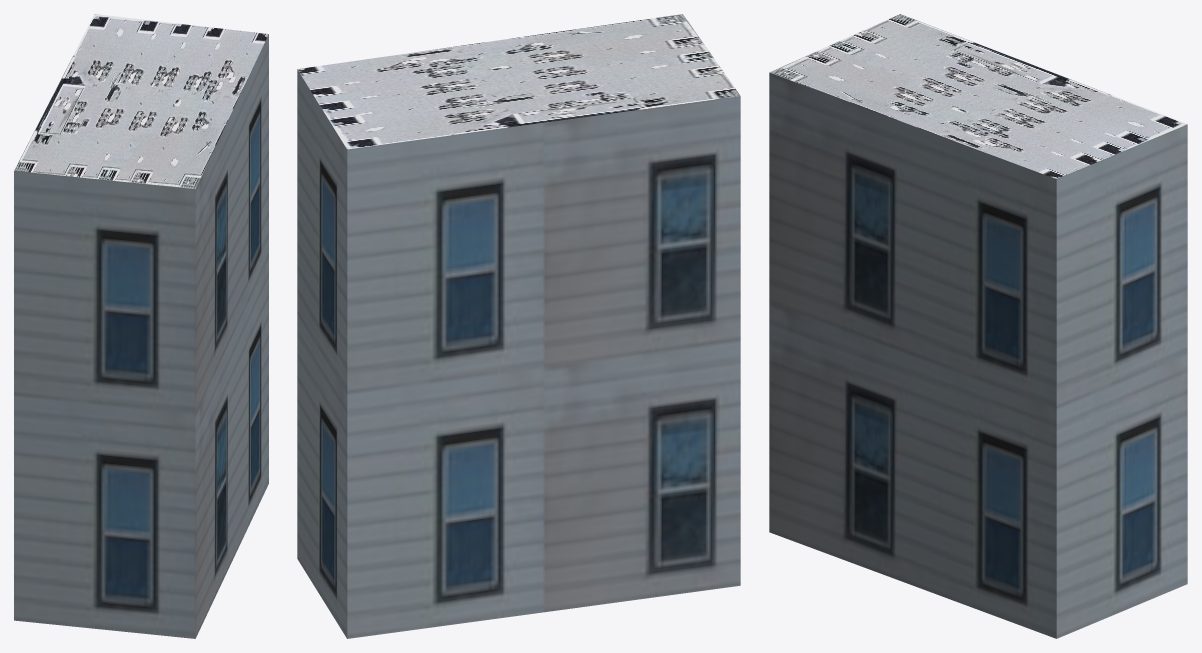
The model's file is ResTex__5183.fbx.
3 renders of one model, left to right at view 1: azimuth 30°, elevation 25°; view 2: azimuth 150°, elevation 25°; view 3: azimuth 270°, elevation 25°, orthographic. The views are drawn at different scales.
Visible parts, largest first — view 1: CityEngineMaterial_18_m, CityEngineMaterial_8_m; view 2: CityEngineMaterial_18_m, CityEngineMaterial_8_m; view 3: CityEngineMaterial_18_m, CityEngineMaterial_8_m.
Part boxes in pixels (x1=…): CityEngineMaterial_18_m: x1=14, y1=34, x2=268, y2=638; CityEngineMaterial_8_m: x1=14, y1=14, x2=268, y2=189; CityEngineMaterial_18_m: x1=297, y1=70, x2=740, y2=638; CityEngineMaterial_8_m: x1=297, y1=14, x2=740, y2=149; CityEngineMaterial_18_m: x1=769, y1=72, x2=1187, y2=638; CityEngineMaterial_8_m: x1=769, y1=14, x2=1187, y2=178.
Bounding box in the file's own units: 4.62 × 6 × 4.95.
Materials: 2 (2 with a texture image).
